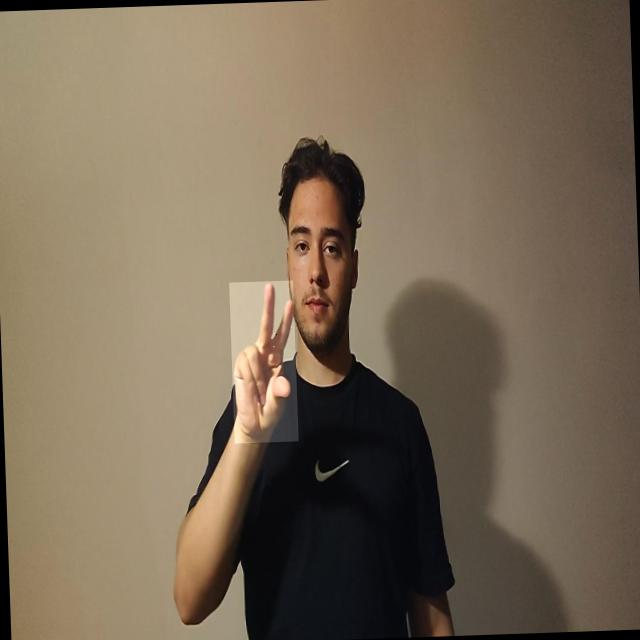no: (229, 280, 298, 443)
